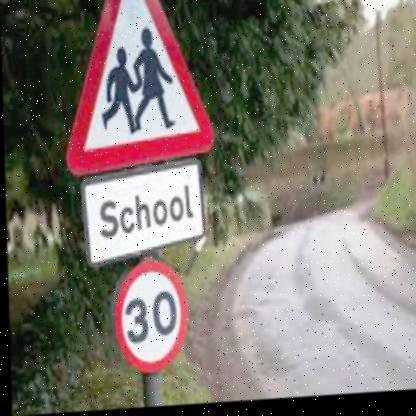Speed Limit -30-: (111, 259, 193, 379)
